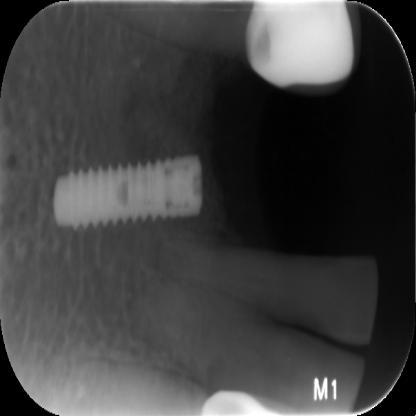ITI: (54, 150, 205, 232)
